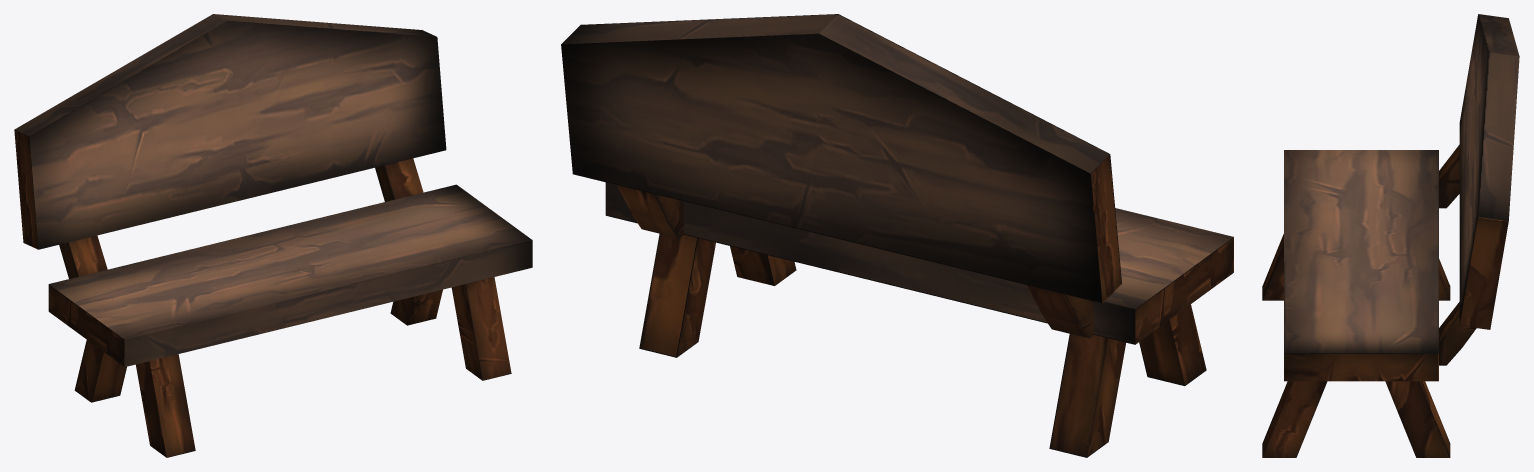
File: bench.fbx
3 renders of one model, left to right at view 1: azimuth 30°, elevation 25°; view 2: azimuth 150°, elevation 25°; view 3: azimuth 270°, elevation 25°, orthographic. The views are drawn at different scales.
Parts seen in each view (by area): view 1: bench; view 2: bench; view 3: bench.
Part boxes in pixels (x1,y1,x2,y2): bench: (14, 14, 532, 457); bench: (561, 14, 1233, 457); bench: (1262, 14, 1519, 457).
Bounding box in the file's own units: 310 × 228 × 166.
